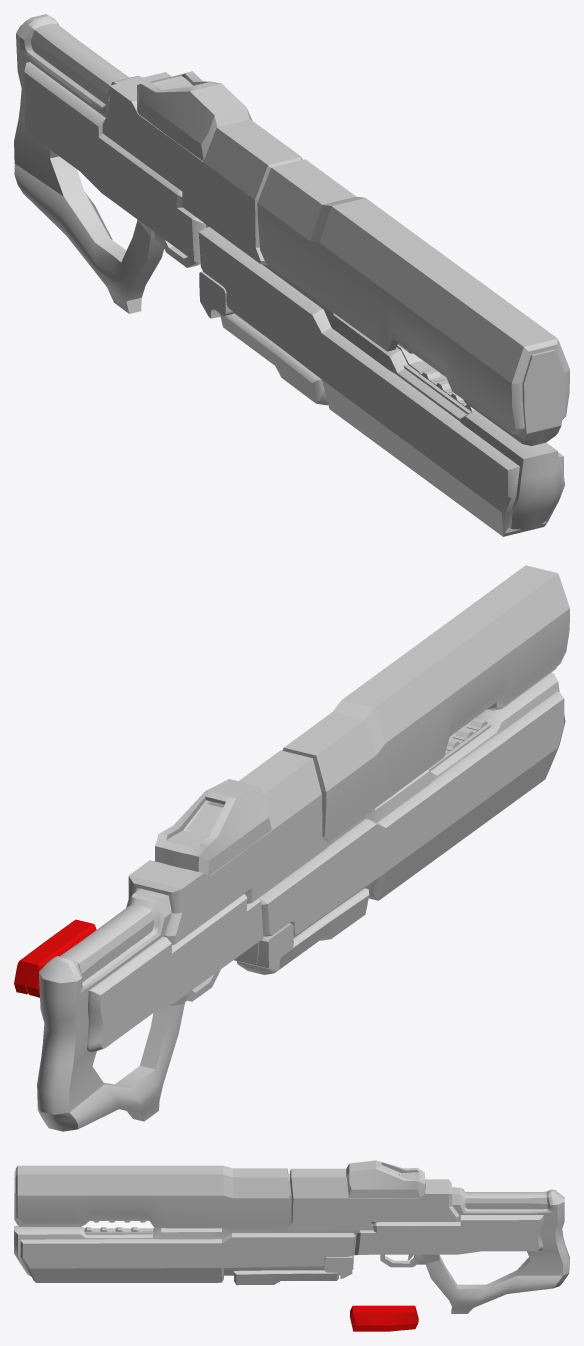
File: LaserGun.fbx
3 renders of one model, top to bottom at view 1: azimuth 30°, elevation 25°; view 2: azimuth 150°, elevation 25°; view 3: azimuth 270°, elevation 25°, orthographic. The views are drawn at different scales.
Parts seen in each view (by area): view 1: Body_Gun; view 2: Body_Gun, Bullet_Rack.001; view 3: Body_Gun, Bullet_Rack.001.
Boxes of the visible parts, bbox=[...] form: Body_Gun: bbox=[14, 14, 569, 536]; Body_Gun: bbox=[37, 565, 569, 1131]; Bullet_Rack.001: bbox=[14, 919, 96, 997]; Body_Gun: bbox=[14, 1160, 569, 1313]; Bullet_Rack.001: bbox=[350, 1305, 418, 1331].
Size of the model in its own units: 409 by 504 by 1716.
